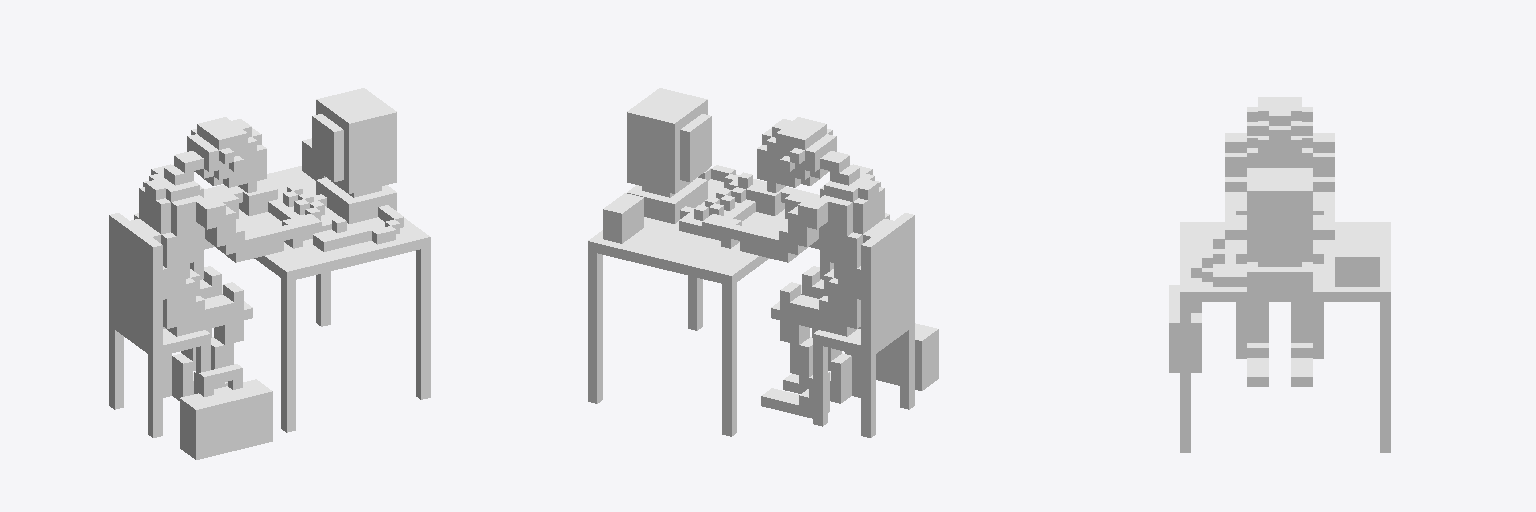
Rendered from NeoSlavery-0.obj.
The picture shows the model from 3 angles: view 1: azimuth 30°, elevation 25°; view 2: azimuth 150°, elevation 25°; view 3: azimuth 270°, elevation 25°; orthographic projection.
Visible parts, largest first — view 1: object 1; view 2: object 1; view 3: object 1.
Boxes of the visible parts, x1=… form: object 1: x1=109, y1=88, x2=430, y2=459; object 1: x1=588, y1=88, x2=938, y2=437; object 1: x1=1169, y1=97, x2=1390, y2=452.
Bounding box in the file's own units: 2.6 × 2.7 × 2.